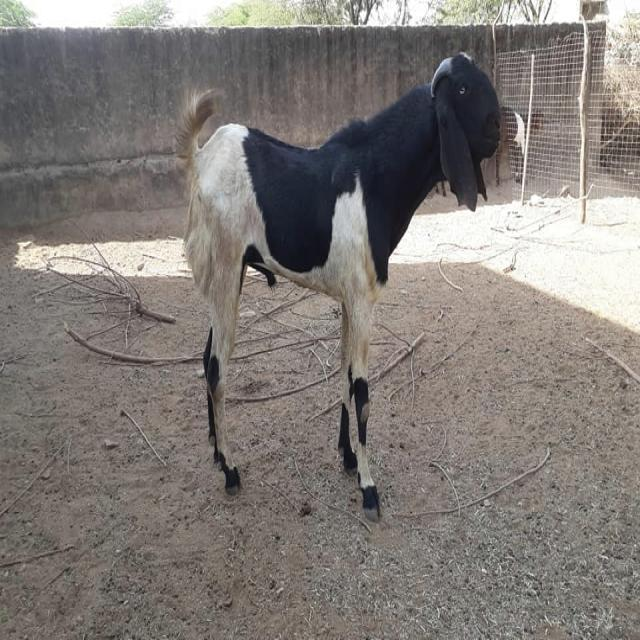Goat: (174, 50, 503, 521), (491, 104, 545, 186)
